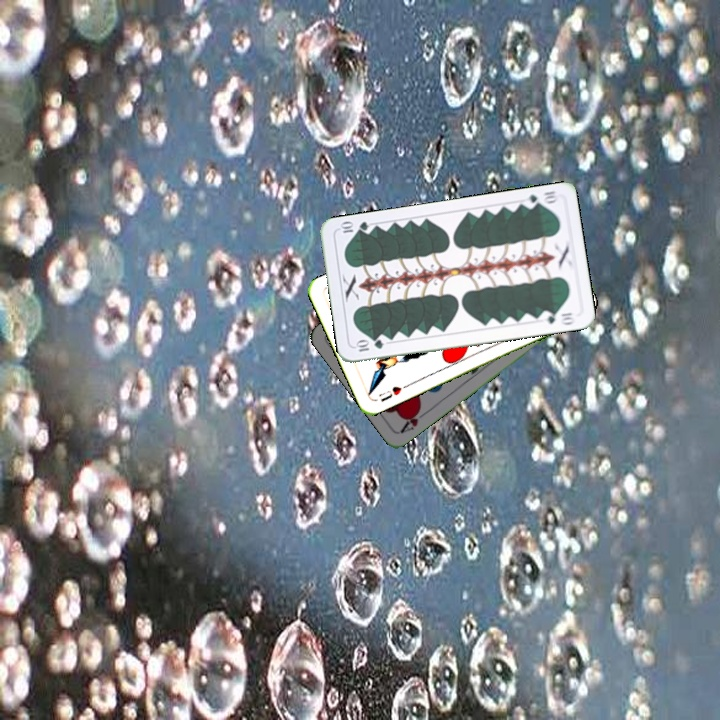G10: (520, 187, 561, 211), (352, 336, 386, 354)
HA: (397, 403, 432, 436)
HU: (375, 381, 411, 405)
